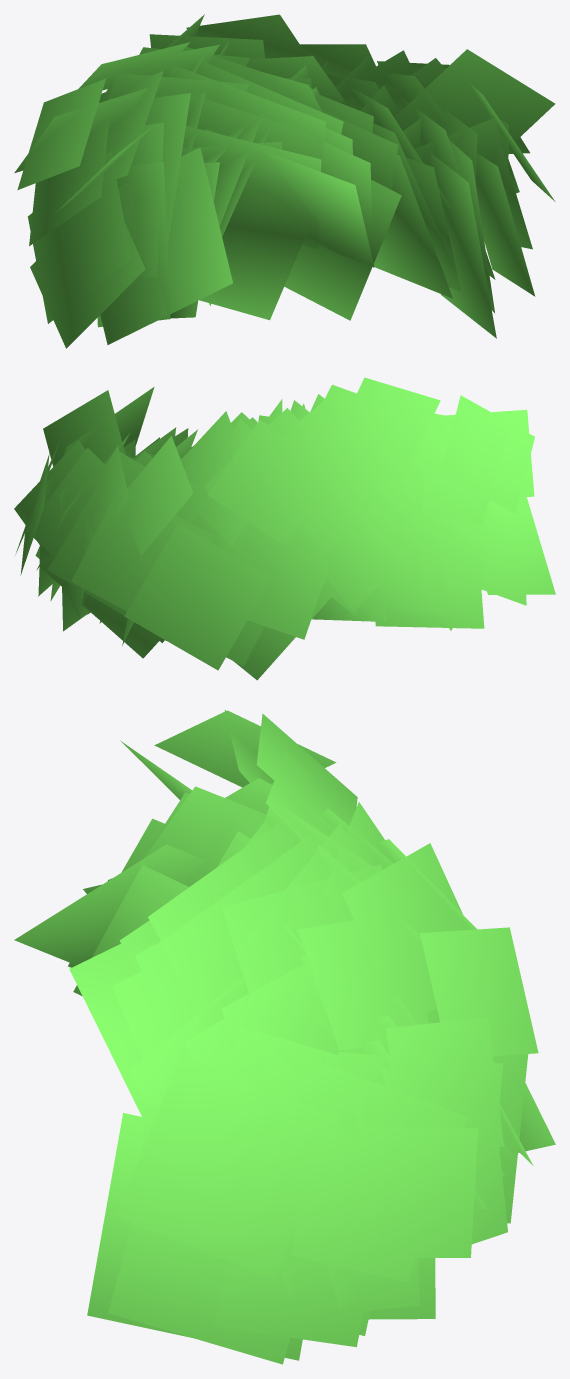
Rendered from G_Canopy_01a.fbx.
3 views of the same model, one above another, from view 1: azimuth 30°, elevation 25°; view 2: azimuth 150°, elevation 25°; view 3: azimuth 270°, elevation 25° (orthographic). The views are drawn at different scales.
Visible parts, largest first — view 1: tree.001; view 2: tree.001; view 3: tree.001.
Boxes of the visible parts, left/top/right/bottom form: tree.001: left=14, top=14, right=555, bottom=348; tree.001: left=14, top=377, right=555, bottom=680; tree.001: left=14, top=710, right=555, bottom=1364.
Bounding box in the file's own units: 1531 × 907 × 1042.
